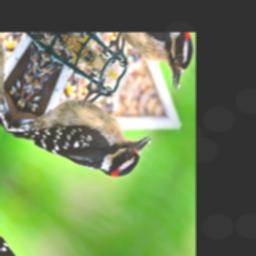Woodpecker: (6, 40, 161, 215)
